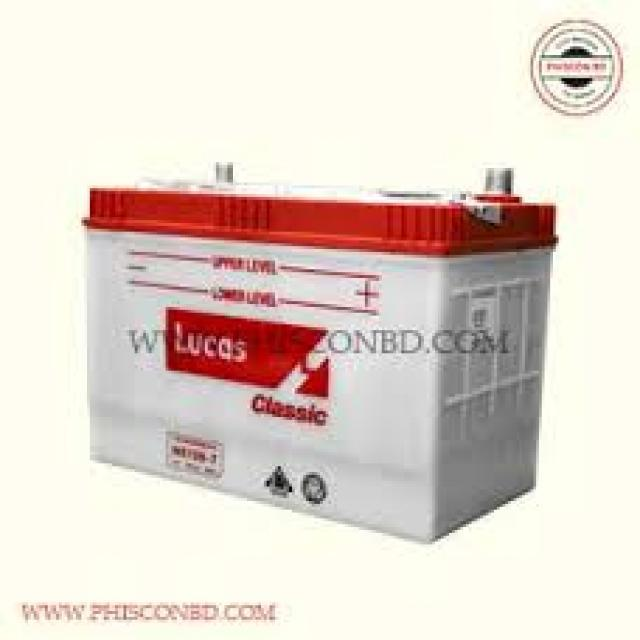battery: (82, 168, 567, 544)
